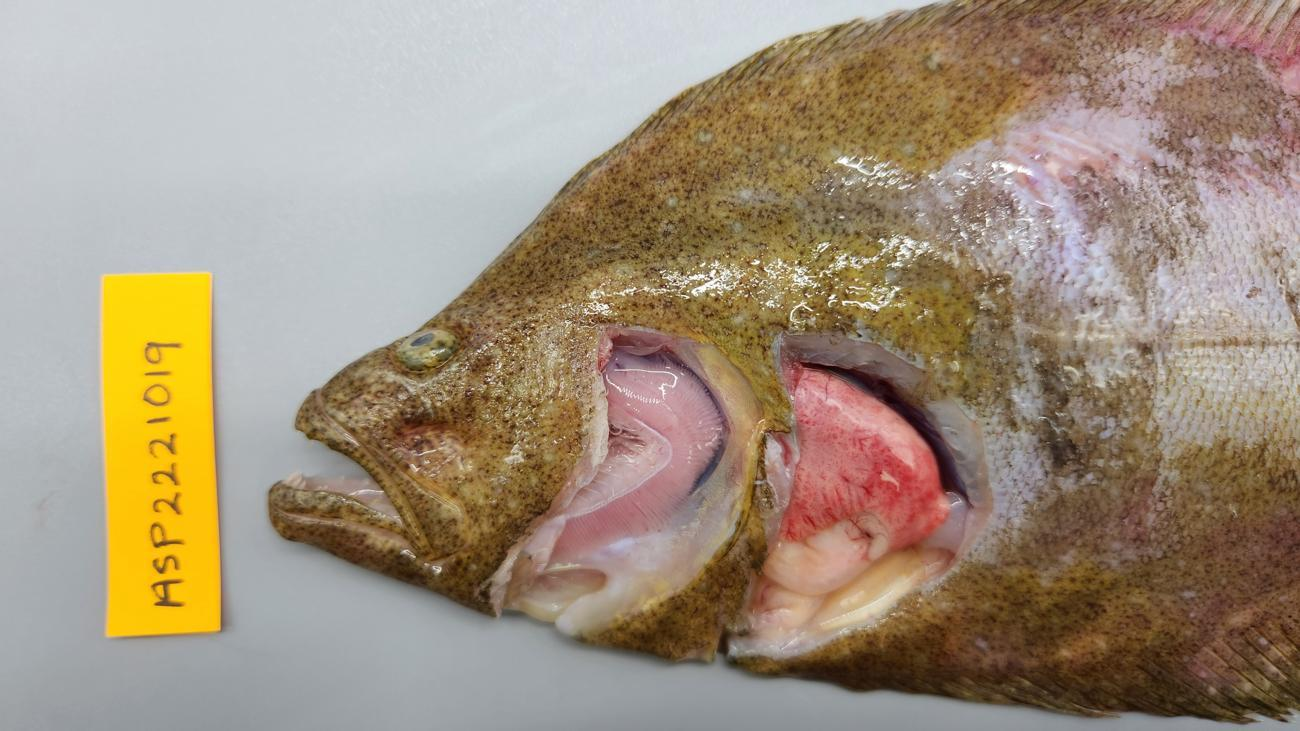SPGIP: (545, 350, 722, 566)
SPLIC: (782, 362, 951, 552)
